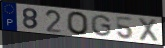2: (44, 9, 64, 34)
5: (115, 15, 135, 41)
8: (21, 7, 39, 30)
G: (90, 14, 113, 38)
O: (66, 11, 91, 36)
X: (137, 16, 160, 44)
